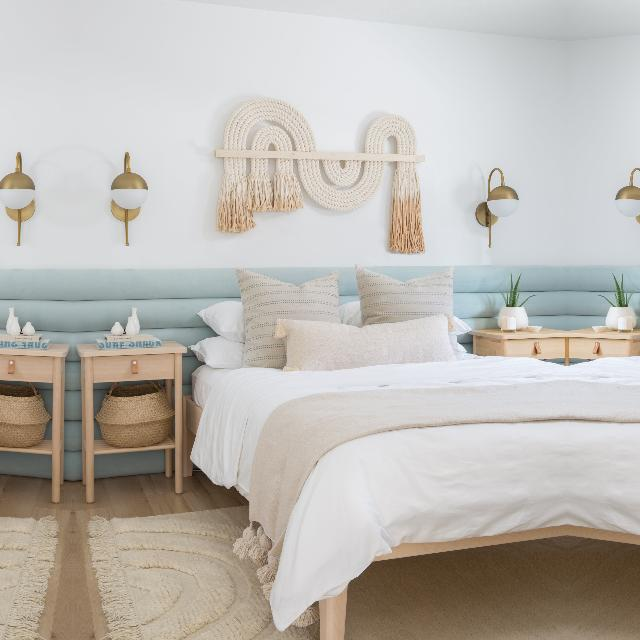pillow: (284, 311, 462, 374), (234, 267, 343, 367), (354, 258, 456, 350)
